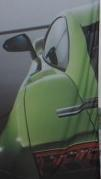backlight: (31, 137, 101, 179)
